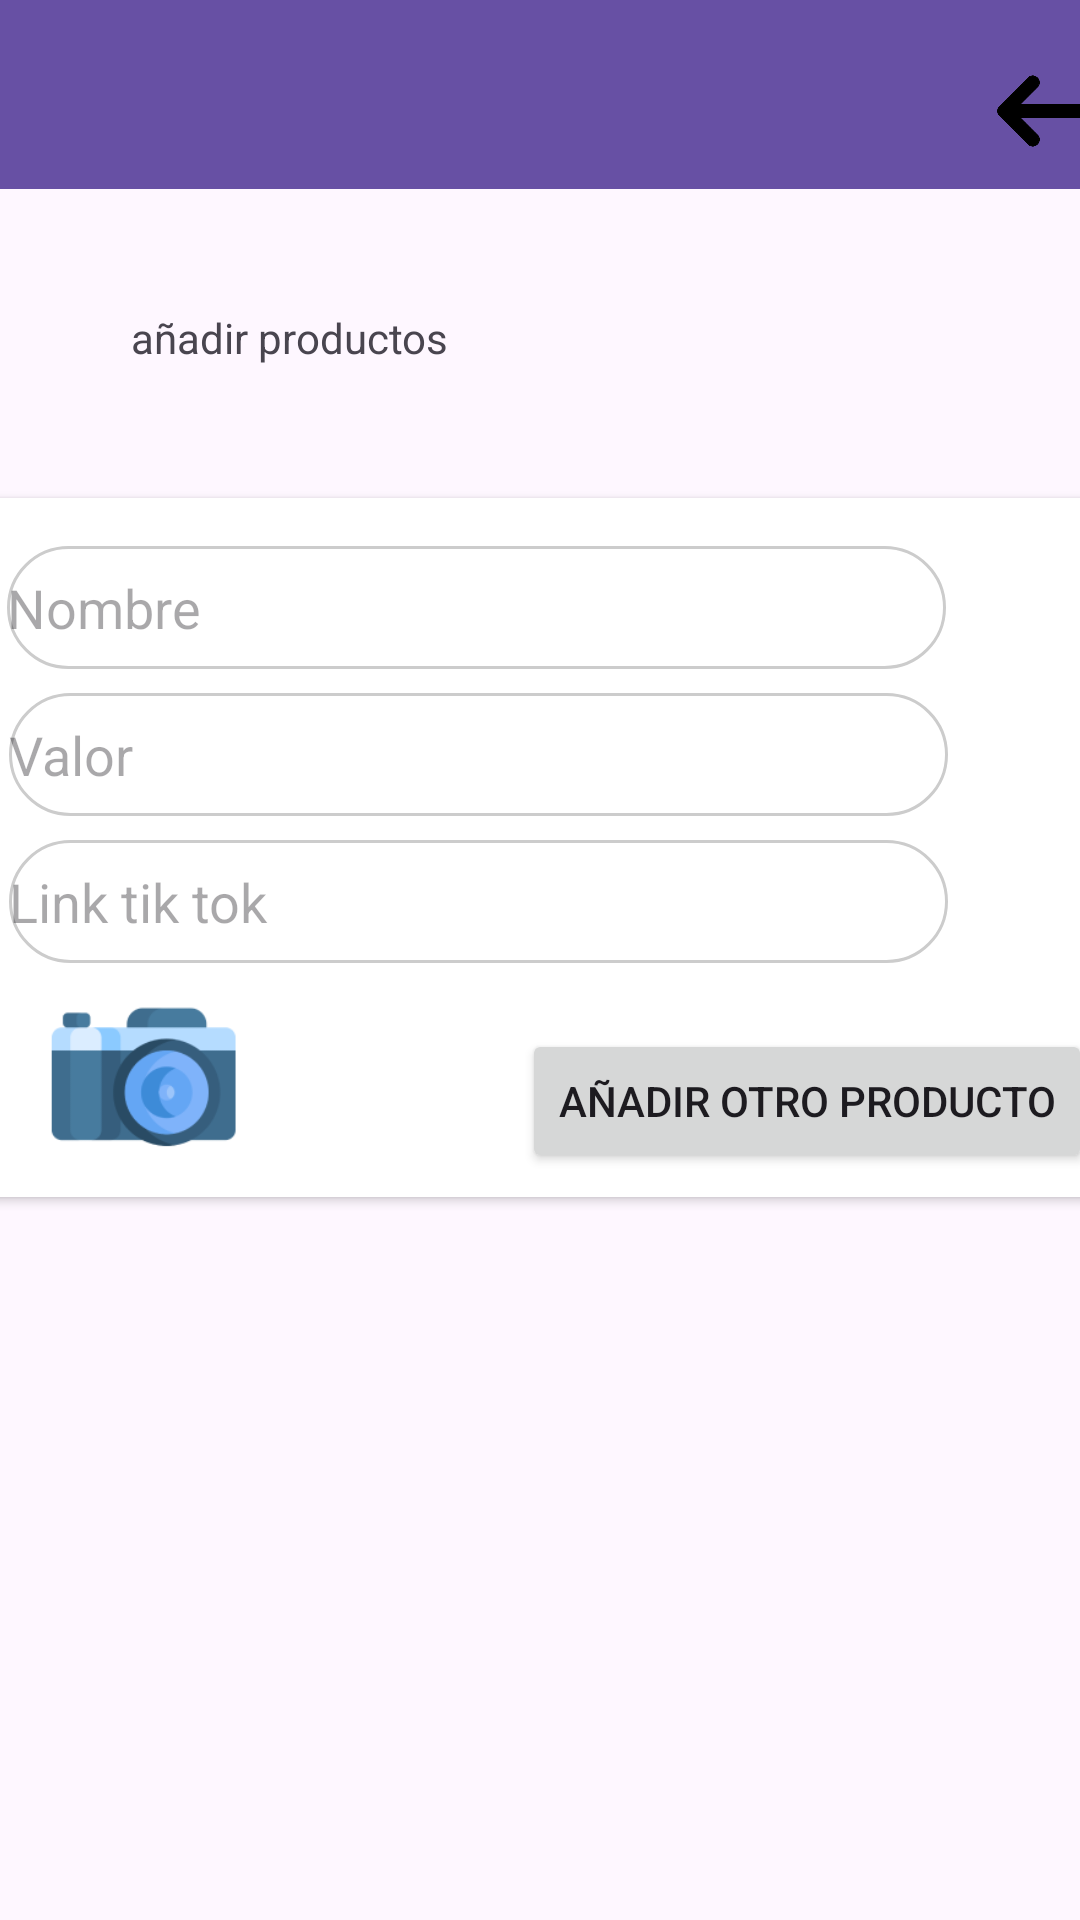

Icons on this 1080 × 1920 Android screen, each with the point to tap as [x,y]:
camera: [143,1077]
